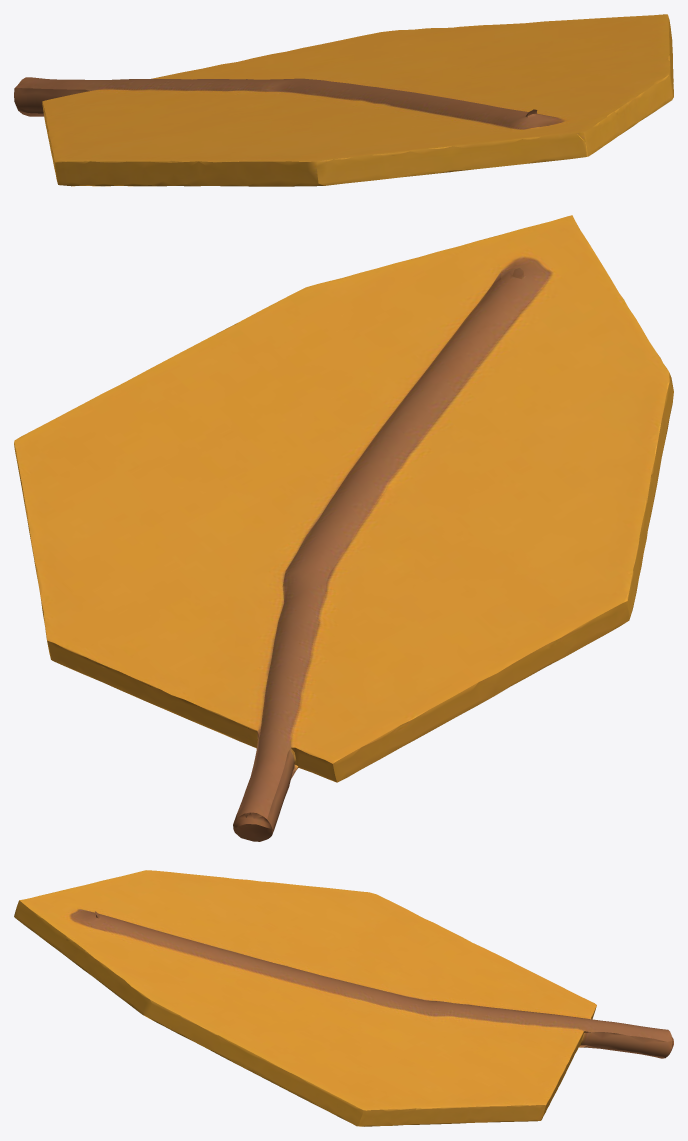
The model's file is fall_leaf.glb.
The picture shows the model from 3 angles, top to bottom: view 1: azimuth 30°, elevation 25°; view 2: azimuth 150°, elevation 25°; view 3: azimuth 270°, elevation 25°; orthographic projection. The views are drawn at different scales.
Visible parts, largest first — view 1: fall_leaf; view 2: fall_leaf; view 3: fall_leaf.
Boxes of the visible parts, x1,y1,x2,y2 form: fall_leaf: [14, 14, 673, 186]; fall_leaf: [14, 215, 673, 841]; fall_leaf: [14, 870, 673, 1126].
Bounding box in the file's own units: 0.2384 × 0.1009 × 0.3009.
Materials: 1 (1 with a texture image).
